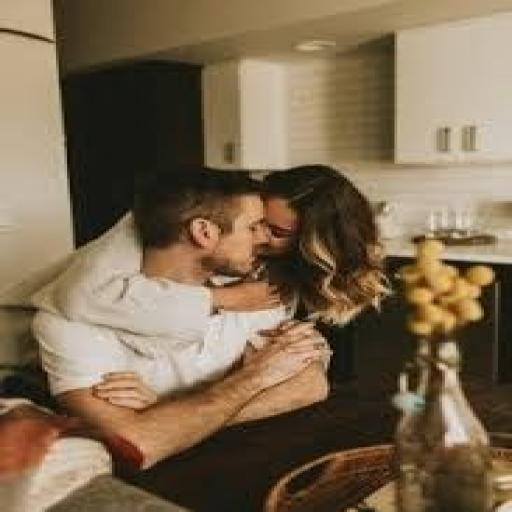hugging: (25, 162, 395, 510)
